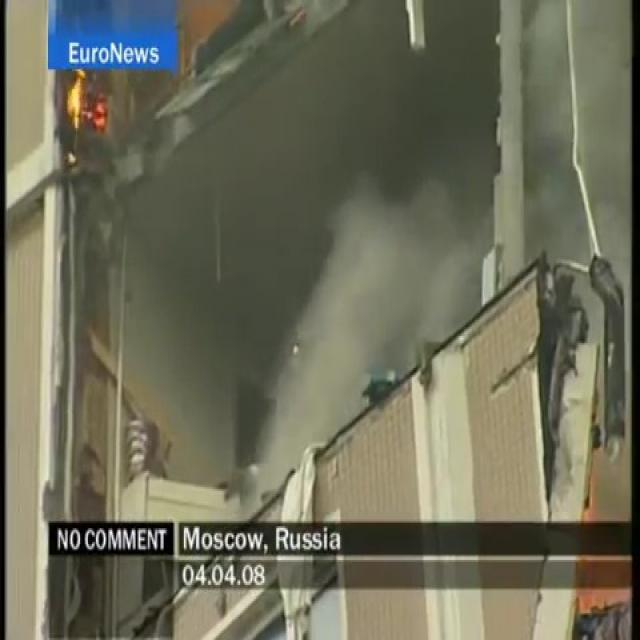fire: (68, 66, 111, 132)
